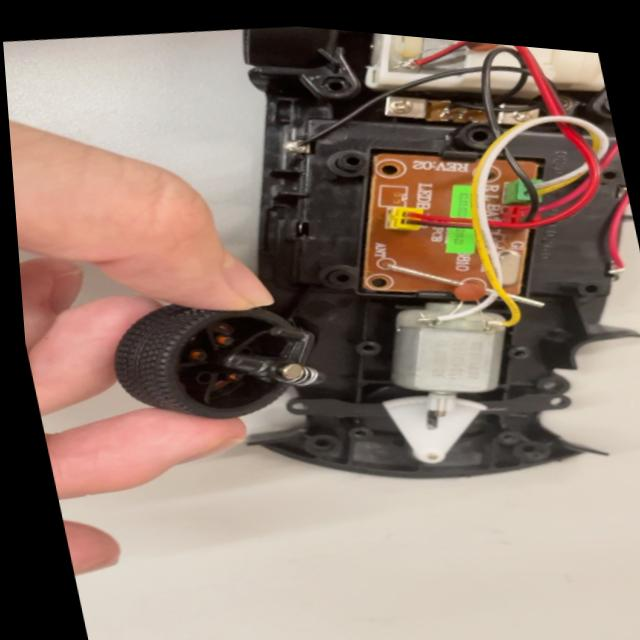motor: (373, 281, 531, 432)
wheel: (105, 275, 347, 447)
